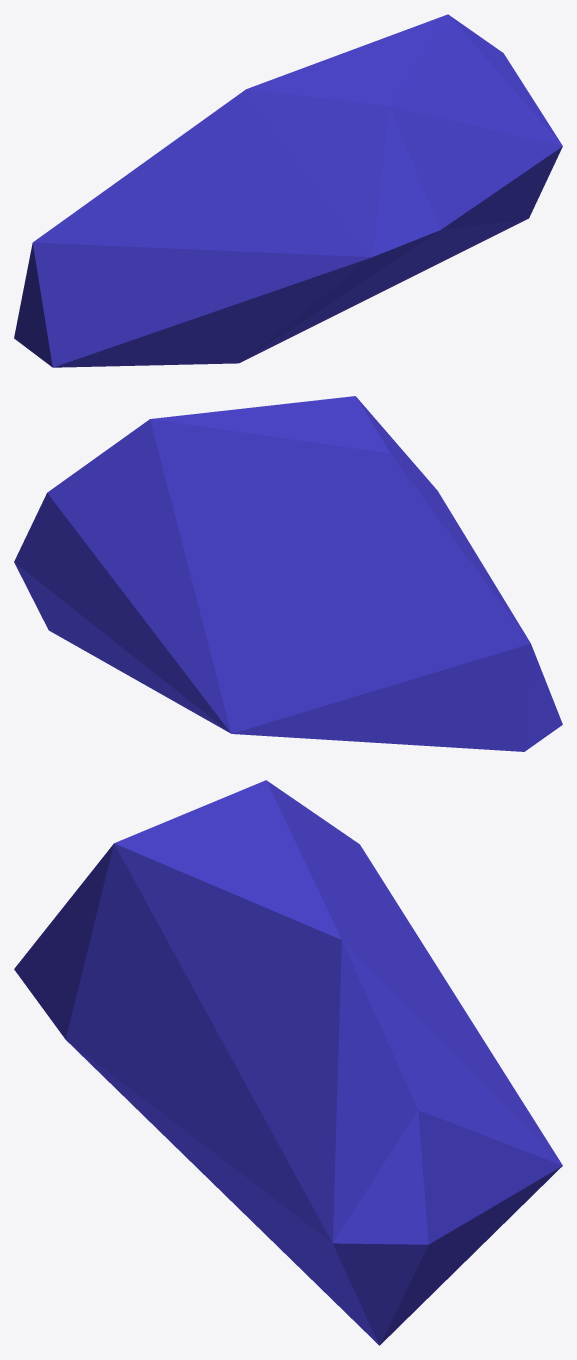
The model's file is Boulder_04_Collider_01.FBX.
3 renders of one model, top to bottom at view 1: azimuth 30°, elevation 25°; view 2: azimuth 150°, elevation 25°; view 3: azimuth 270°, elevation 25°, orthographic. The views are drawn at different scales.
Visible parts, largest first — view 1: COLLIDER1; view 2: COLLIDER1; view 3: COLLIDER1.
Boxes of the visible parts, box(x1,y1,x2,y2) form: COLLIDER1: box(14, 14, 562, 367); COLLIDER1: box(14, 396, 562, 751); COLLIDER1: box(14, 780, 562, 1345).
Size of the model in its own units: 111 by 47.43 by 69.42.
